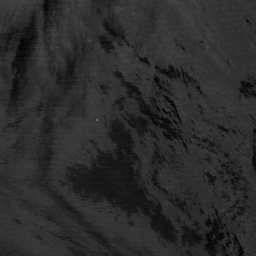Target: (95, 117, 99, 122)
